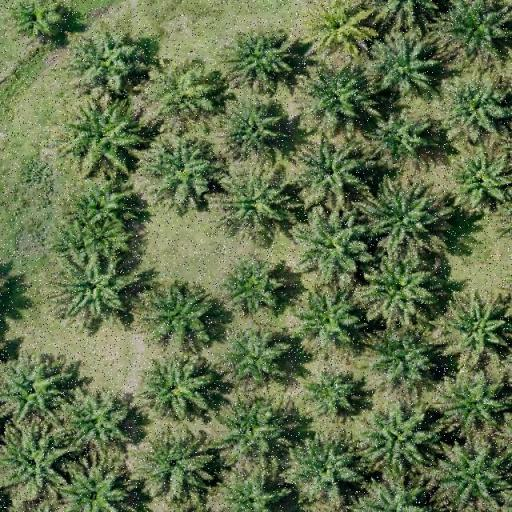Ganoderma: (318, 10, 359, 46)
